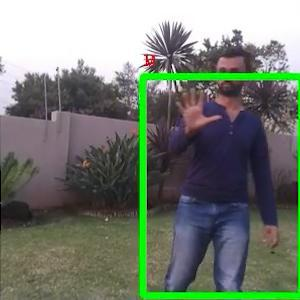follow_hand: (170, 82, 223, 135)
